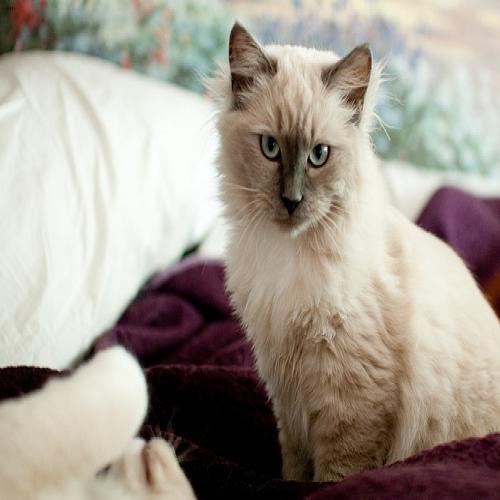ragdoll: (220, 18, 375, 257)
